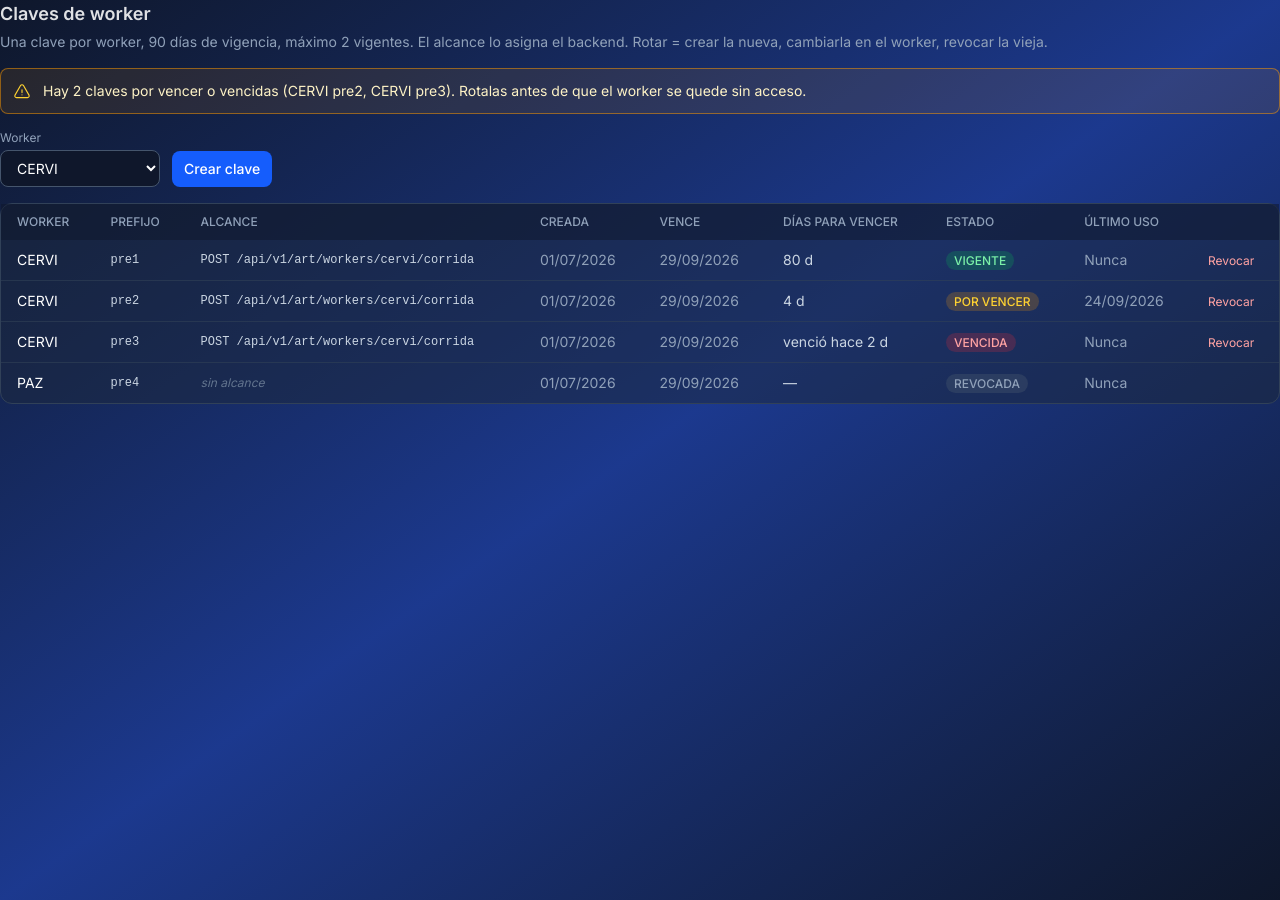
Test case: la clave en claro › se muestra una vez con el texto de advertencia y el botón Copiar
Expected: the text "pre1" is shown, [94, 240, 185, 280]
Click the button "Crear clave".
click(222, 169)  # box [172, 151, 272, 187]
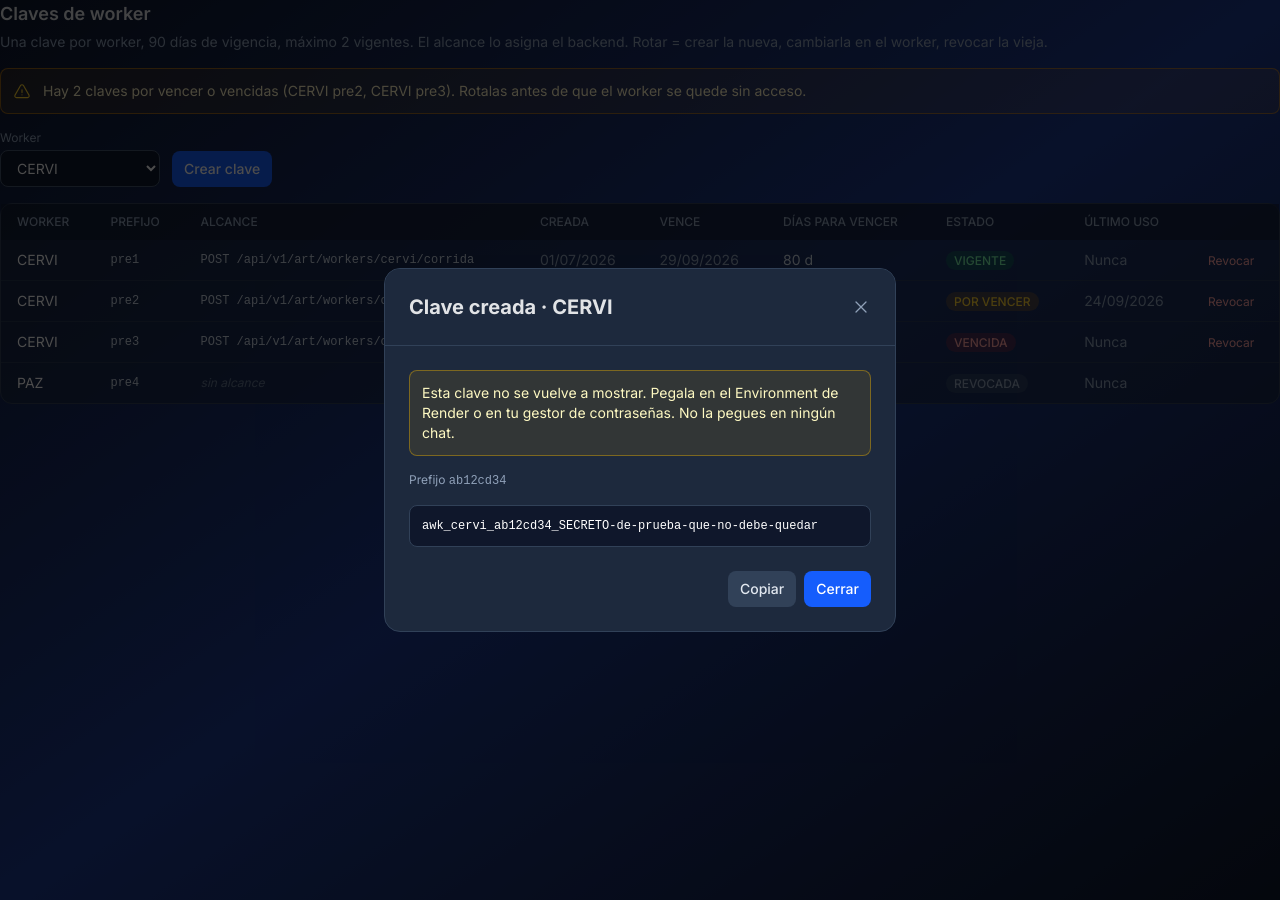
Now the text with test id "clave-en-claro" reads "awk_cervi_ab12cd34_SECRETO-de-prueba-que-no-debe-quedar", box [422, 519, 818, 533]
Now the text "Esta clave no se vuelve a mostrar" shows "No la pegues en ningún chat.", box [422, 384, 838, 441]
Click the button "Copiar".
click(762, 589)  # box [728, 571, 796, 607]
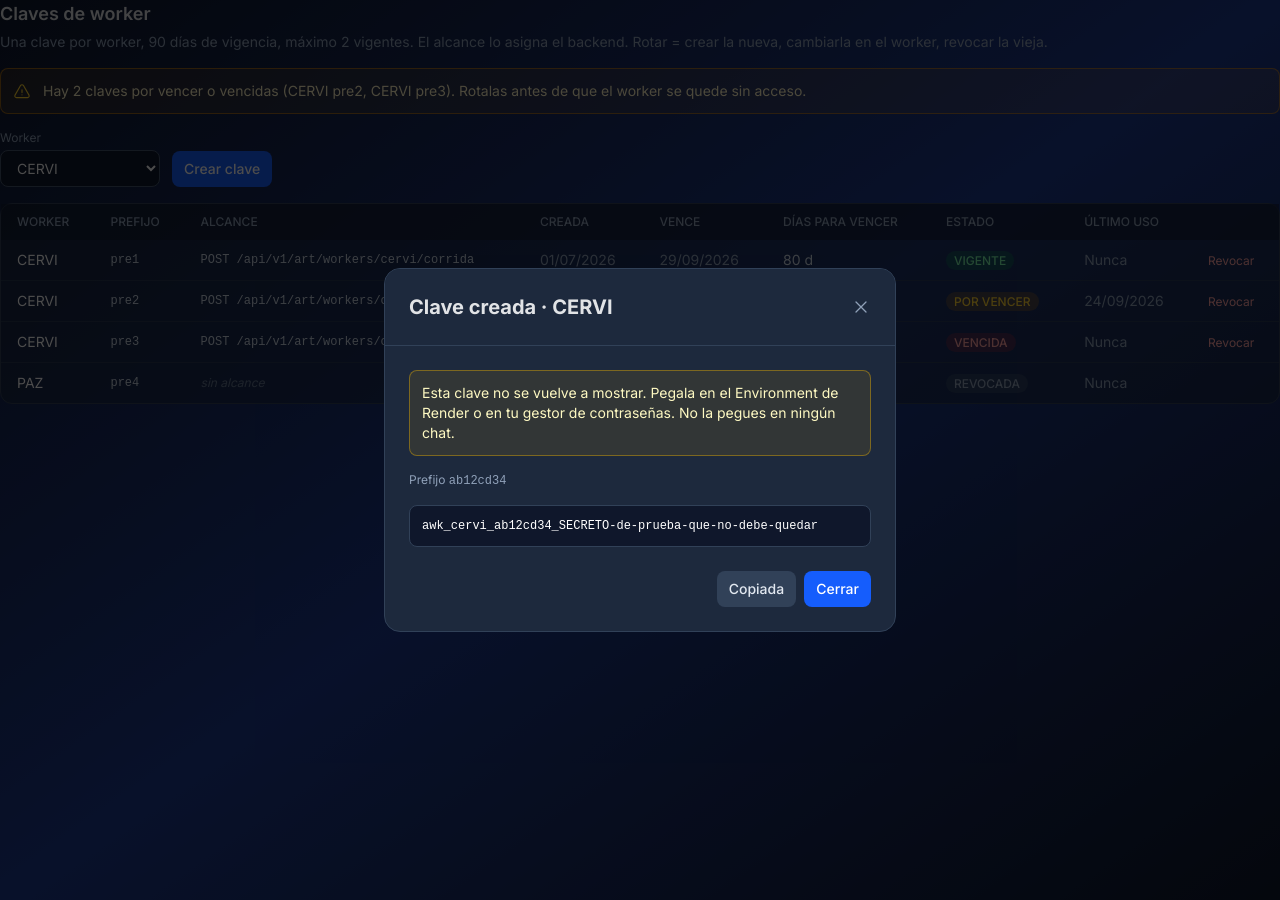
Now the button "Copiada" is shown, box [717, 571, 796, 607]
